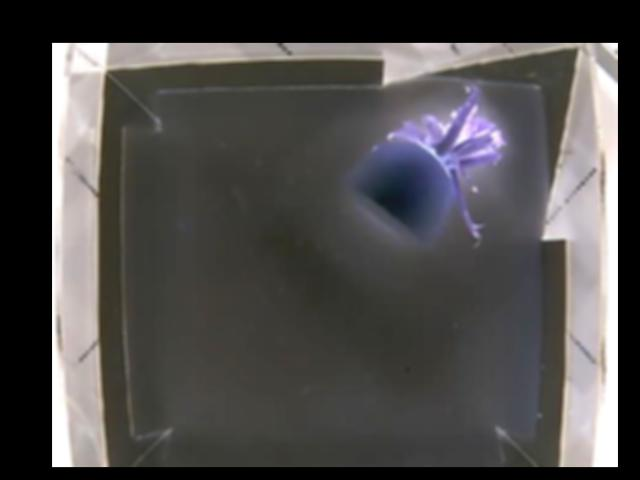Mooli: (345, 81, 502, 247)
